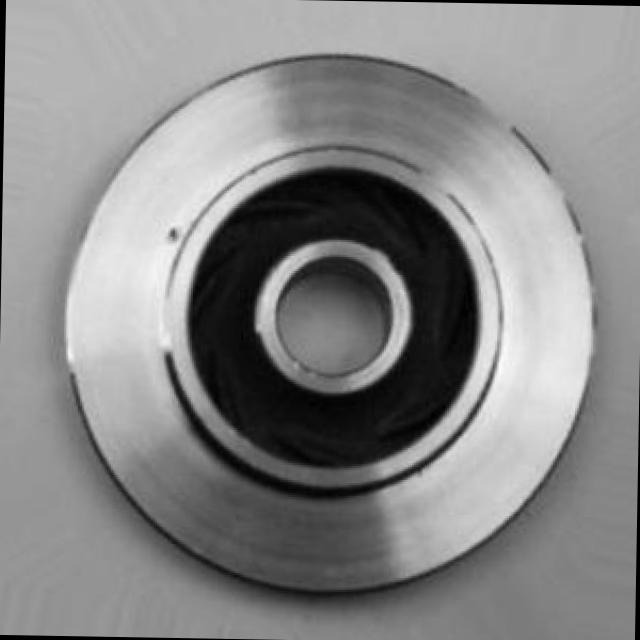Defect: (162, 223, 185, 246)
